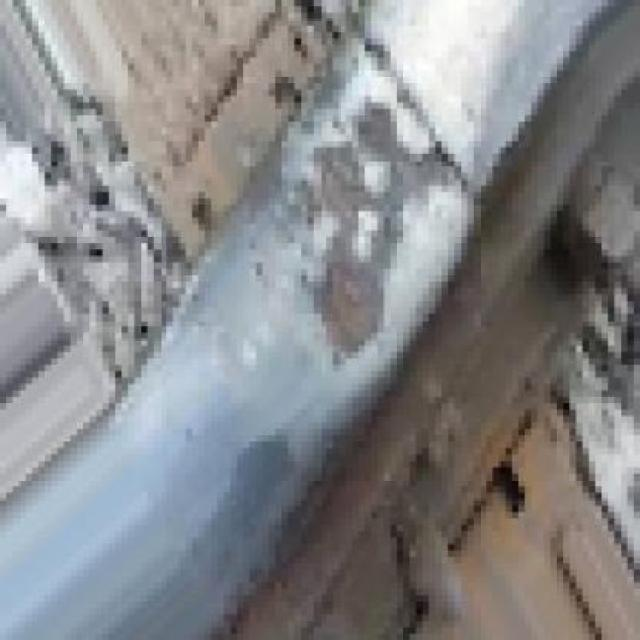defective: (193, 0, 491, 543)
